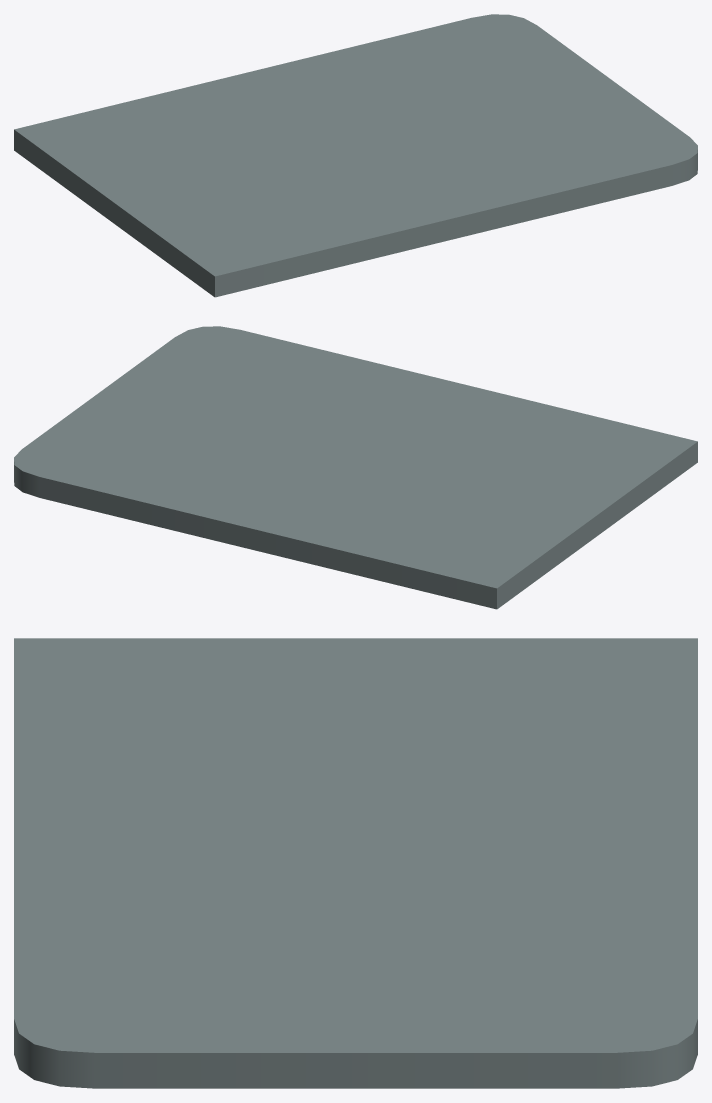
File: house01_parking_s02.FBX
3 views of the same model, one above another, from view 1: azimuth 30°, elevation 25°; view 2: azimuth 150°, elevation 25°; view 3: azimuth 270°, elevation 25° (orthographic). The views are drawn at different scales.
Visible parts, largest first — view 1: house01_parking_s02; view 2: house01_parking_s02; view 3: house01_parking_s02.
Boxes of the visible parts, x1,y1,x2,y2 form: house01_parking_s02: (14, 14, 697, 297); house01_parking_s02: (14, 326, 697, 609); house01_parking_s02: (14, 638, 697, 1088).
Bounding box in the file's own units: 604 × 421 × 24.31.
1 material, 1 textured.
